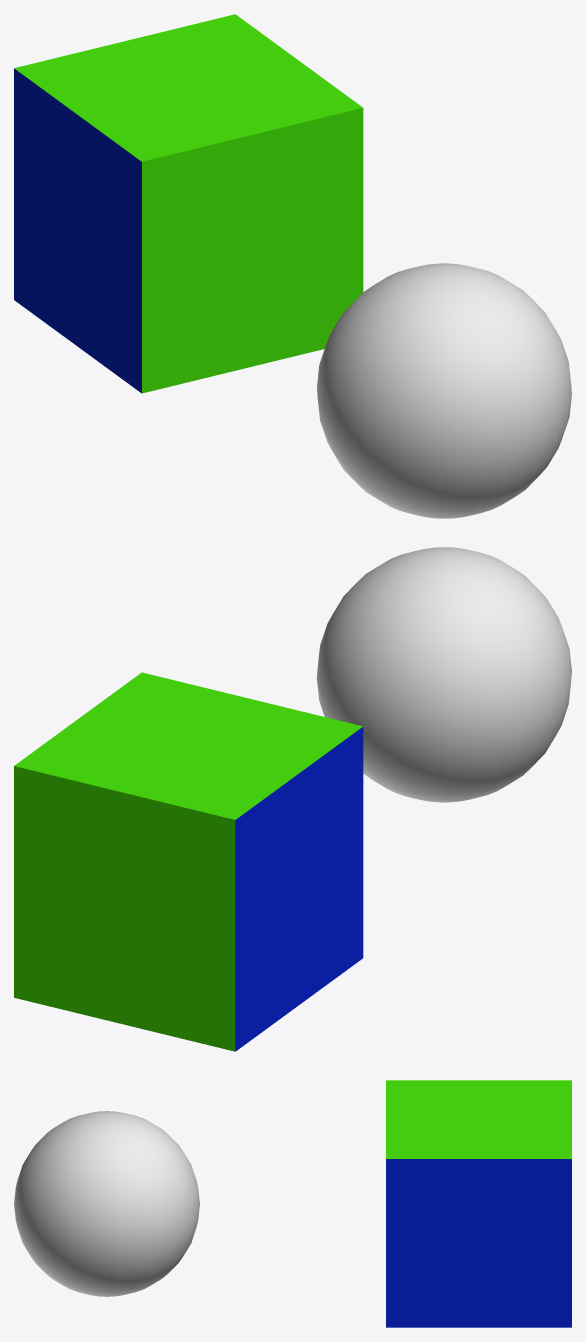
Rendered from Parent.gltf.
3 views of the same model, one above another, from view 1: azimuth 30°, elevation 25°; view 2: azimuth 150°, elevation 25°; view 3: azimuth 270°, elevation 25° (orthographic). The views are drawn at different scales.
Visible parts, largest first — view 1: Cube, Sphere; view 2: Cube, Sphere; view 3: Cube, Sphere.
Boxes of the visible parts, left/top/right/bottom form: Cube: left=14, top=14, right=363, bottom=393; Sphere: left=316, top=263, right=571, bottom=518; Cube: left=14, top=672, right=363, bottom=1051; Sphere: left=316, top=547, right=571, bottom=802; Cube: left=386, top=1080, right=571, bottom=1327; Sphere: left=14, top=1111, right=199, bottom=1296.
Size of the model in its own units: 2 by 2 by 6.
